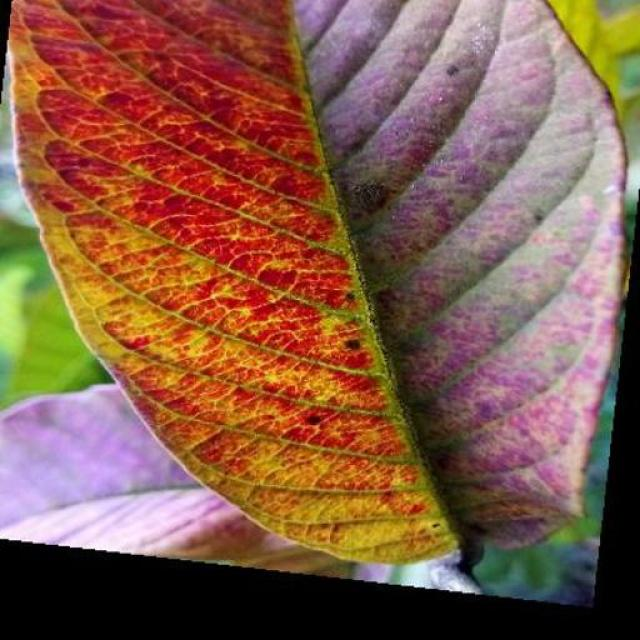Rust: (10, 0, 625, 562)
